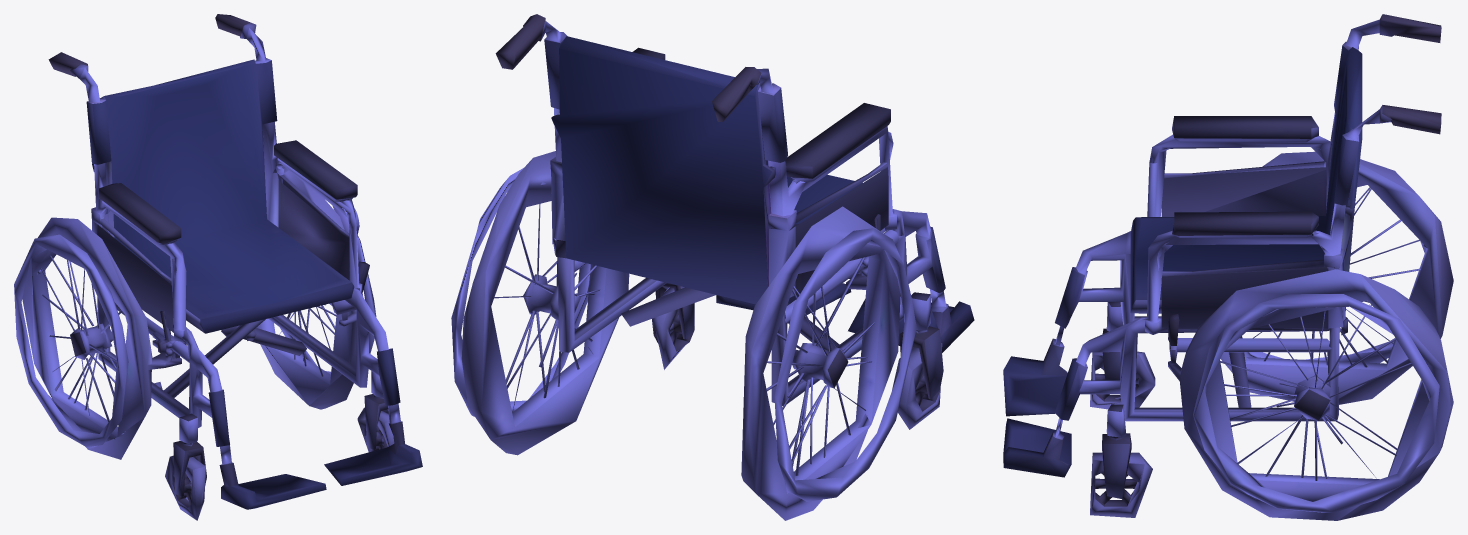
The model's file is model.progressive.glb.
3 renders of one model, left to right at view 1: azimuth 30°, elevation 25°; view 2: azimuth 150°, elevation 25°; view 3: azimuth 270°, elevation 25°, orthographic. The views are drawn at different scales.
Visible parts, largest first — view 1: material; view 2: material; view 3: material.
Boxes of the visible parts, bbox=[...] form: material: bbox=[14, 14, 422, 520]; material: bbox=[451, 14, 974, 520]; material: bbox=[1003, 14, 1453, 520].
Size of the model in its own units: 1.39 by 1.87 by 1.88.
1 material, 1 textured.
